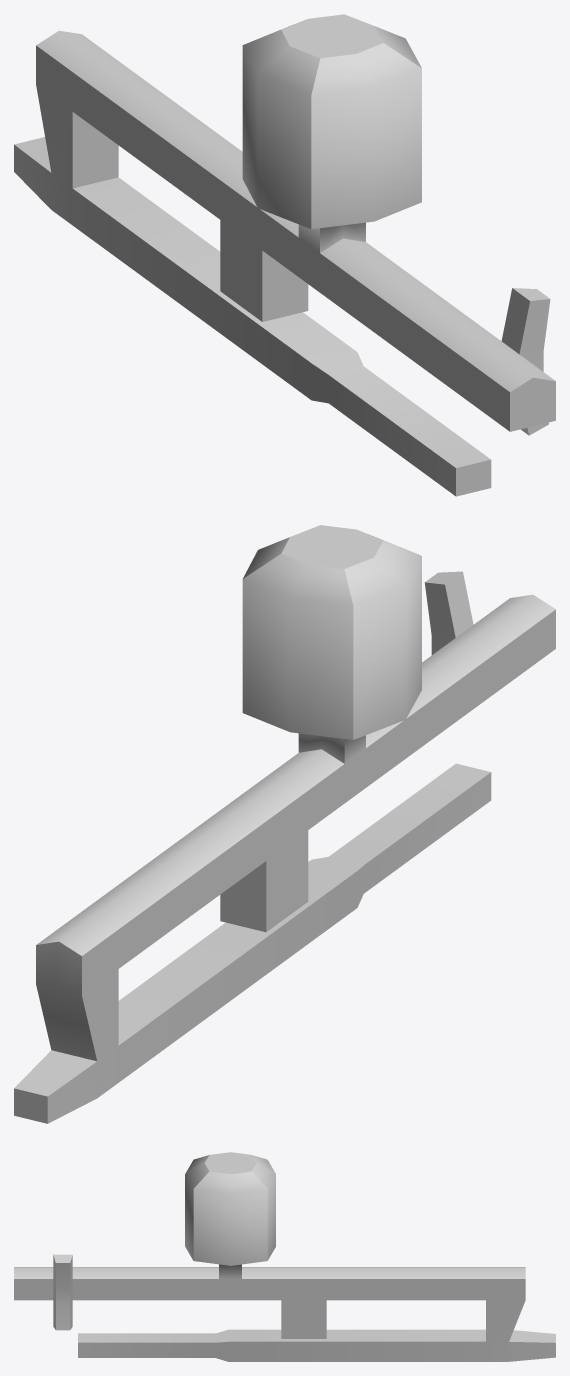
File: watergun.fbx
3 views of the same model, one above another, from view 1: azimuth 30°, elevation 25°; view 2: azimuth 150°, elevation 25°; view 3: azimuth 270°, elevation 25° (orthographic). The views are drawn at different scales.
Parts seen in each view (by area): view 1: watergun_mesh; view 2: watergun_mesh; view 3: watergun_mesh.
Part boxes in pixels (left/top/right/bottom): watergun_mesh: left=14, top=14, right=555, bottom=496; watergun_mesh: left=14, top=525, right=555, bottom=1123; watergun_mesh: left=14, top=1152, right=555, bottom=1361.
Bounding box in the file's own units: 1.65 × 3.8 × 9.69.
Materials: 1 (1 with a texture image).
